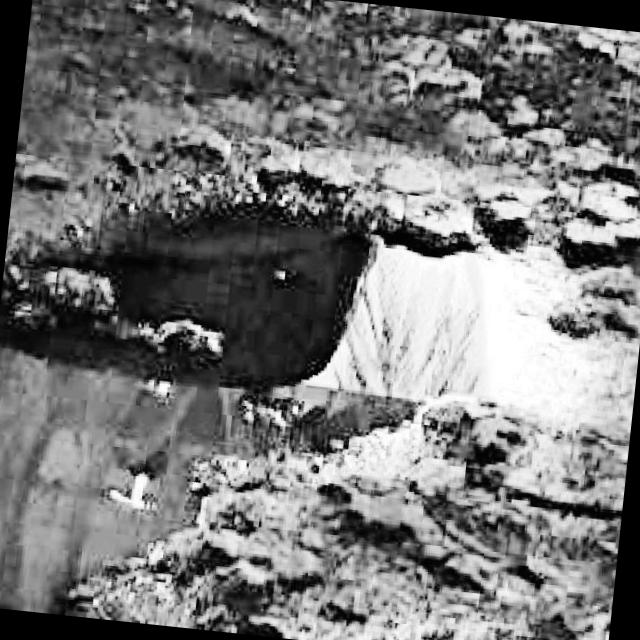Pothole: (0, 127, 621, 640)
